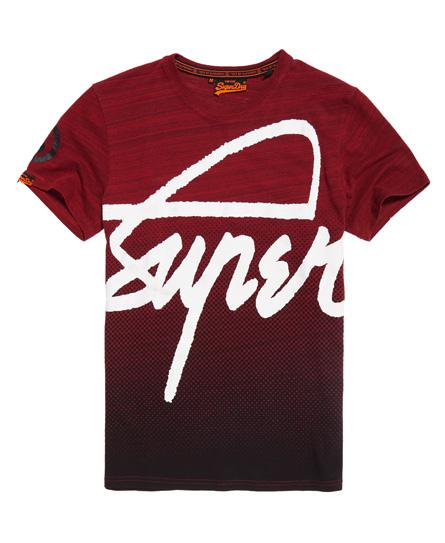teeshirt: (39, 50, 424, 476)
